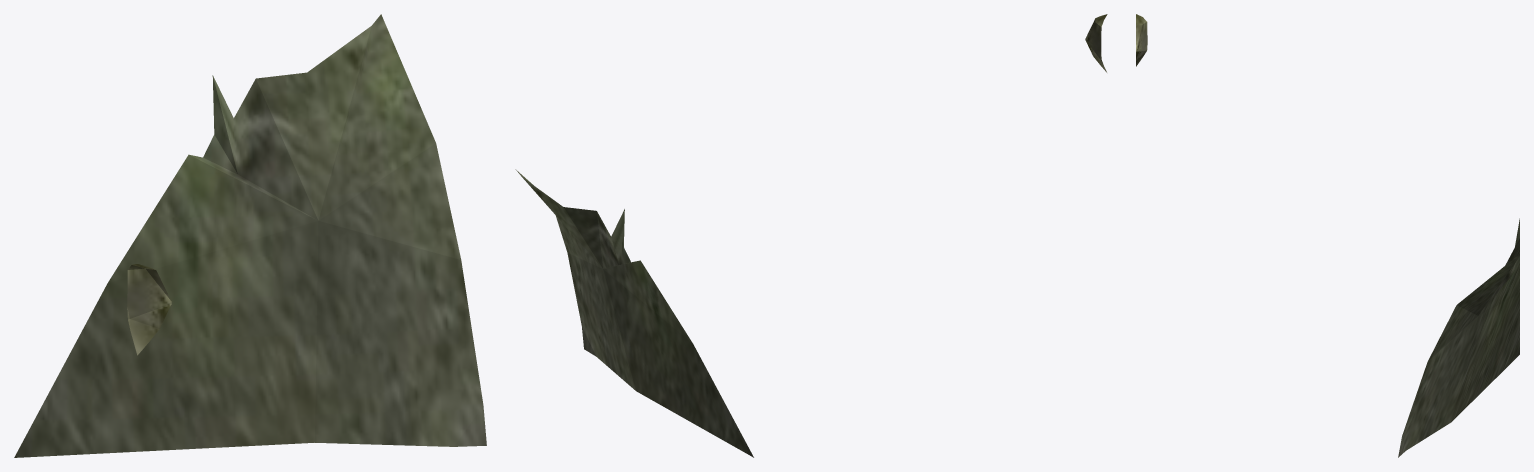
The picture shows the model from 3 angles, left to right: view 1: azimuth 30°, elevation 25°; view 2: azimuth 150°, elevation 25°; view 3: azimuth 270°, elevation 25°; orthographic projection. The views are drawn at different scales.
Bounding box in the file's own units: 2.95 × 2.39 × 2.95.
1 material, 1 textured.
